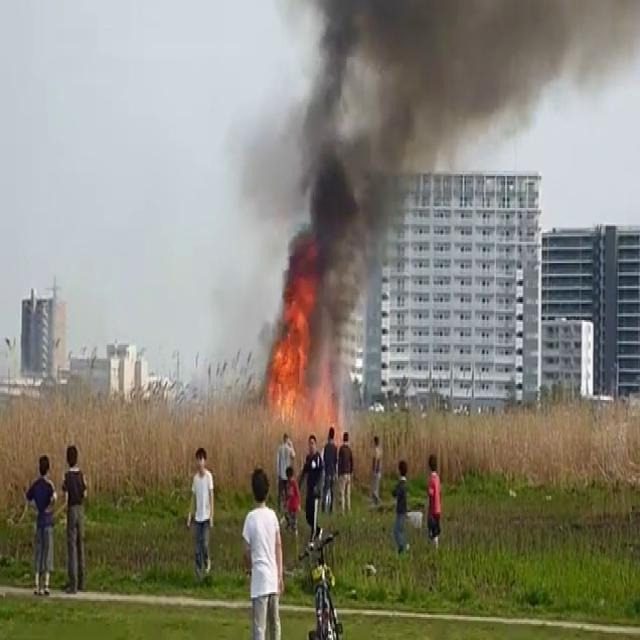Fire: (258, 284, 340, 440)
Smoke: (262, 0, 465, 324), (294, 0, 626, 171)
